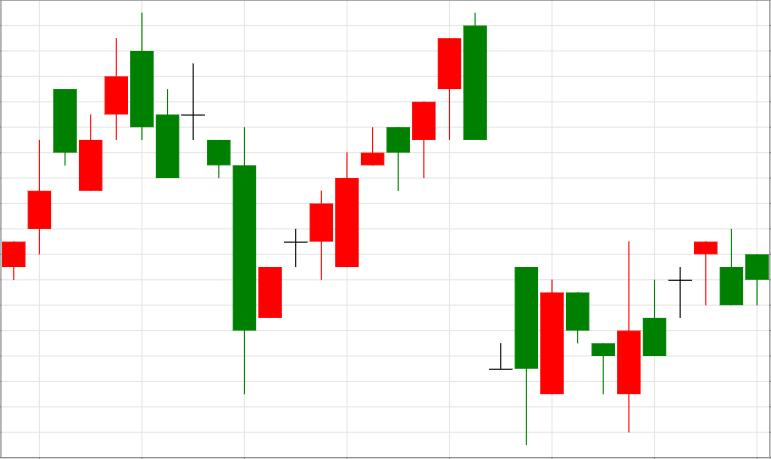bearish_engulfing_fall: (259, 12, 487, 318), (2, 15, 153, 282)
